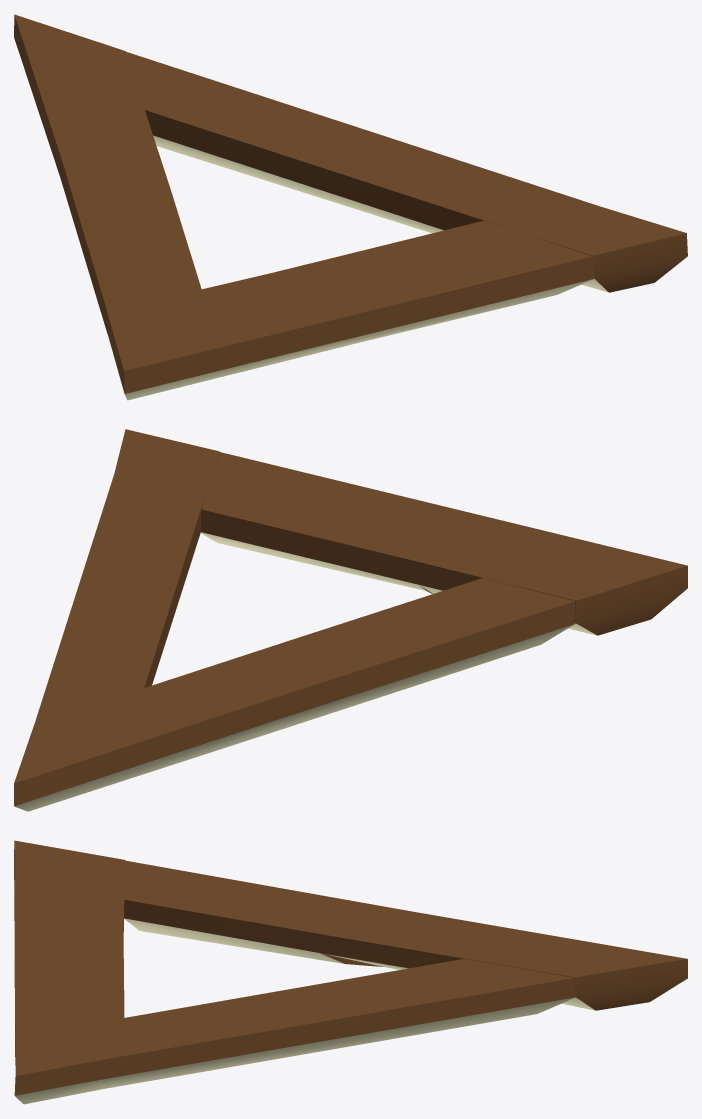
Rendered from w45_wood_2_birchSplitLogTriFloorSection1.glb.
The picture shows the model from 3 angles, top to bottom: view 1: azimuth 30°, elevation 25°; view 2: azimuth 150°, elevation 25°; view 3: azimuth 270°, elevation 25°; orthographic projection. The views are drawn at different scales.
Parts seen in each view (by area): view 1: Outside; view 2: Outside; view 3: Outside.
Boxes of the visible parts, box(x1,y1,x2,y2) form: Outside: box(14, 14, 687, 400); Outside: box(14, 429, 687, 811); Outside: box(14, 840, 687, 1104).
Bounding box in the file's own units: 1.55 × 0.1233 × 1.87.
